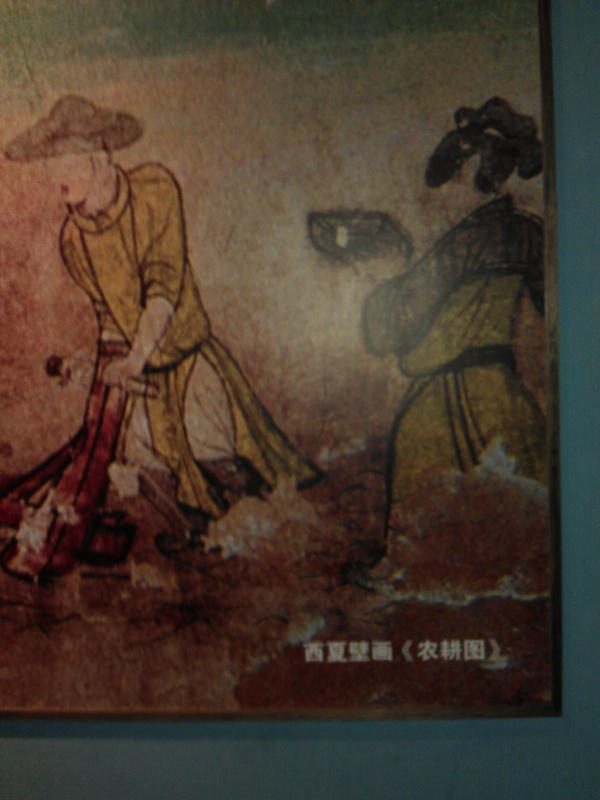text: (305, 639, 320, 664), (321, 639, 336, 664), (337, 639, 352, 664), (353, 639, 368, 664), (369, 639, 384, 664), (401, 638, 416, 662), (417, 638, 432, 662), (433, 638, 448, 662), (449, 638, 464, 662), (465, 638, 480, 662), (481, 638, 496, 662), (385, 639, 394, 664), (497, 638, 501, 662), (302, 639, 304, 664)
